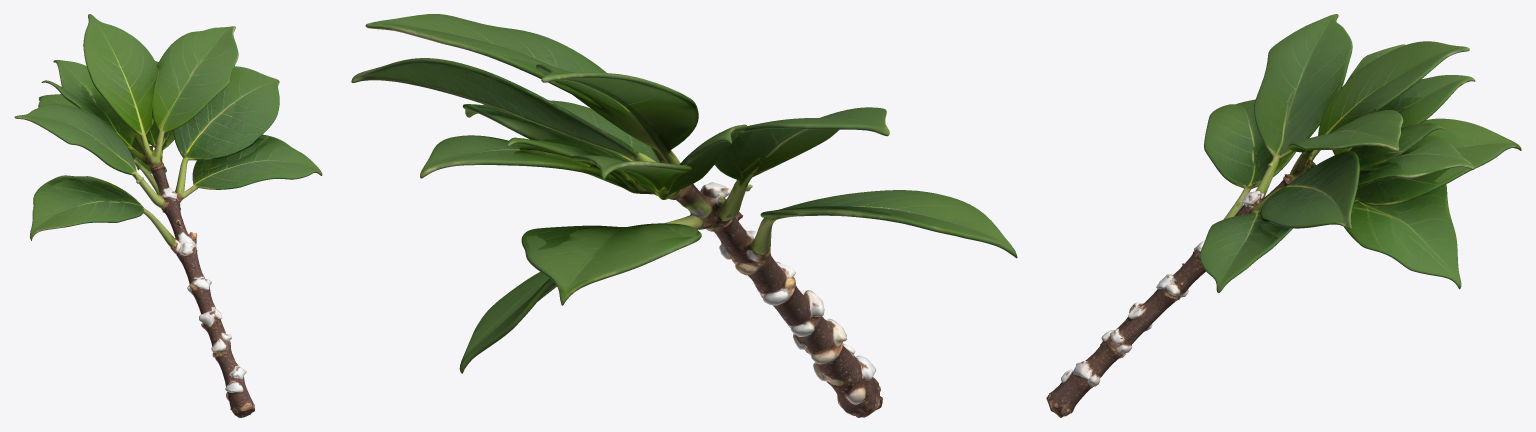
The picture shows the model from 3 angles, left to right: view 1: azimuth 30°, elevation 25°; view 2: azimuth 150°, elevation 25°; view 3: azimuth 270°, elevation 25°; orthographic projection. The views are drawn at different scales.
Visible parts, largest first — view 1: node_0; view 2: node_0; view 3: node_0.
Boxes of the visible parts, x1,y1,x2,y2 form: node_0: (14,14,322,417); node_0: (351,14,1017,417); node_0: (1046,14,1521,417).
Bounding box in the file's own units: 0.8661 × 0.8078 × 0.9374.
1 material, 1 textured.
